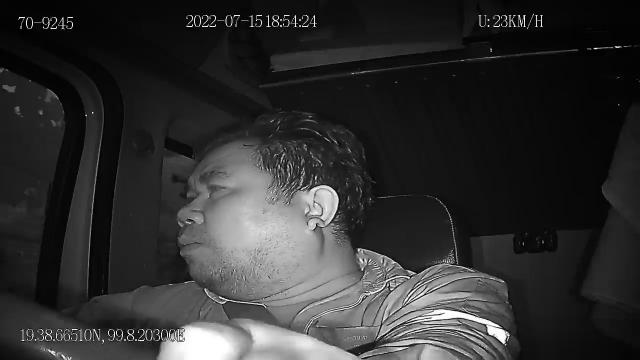Seatbelt: (222, 299, 282, 327)
